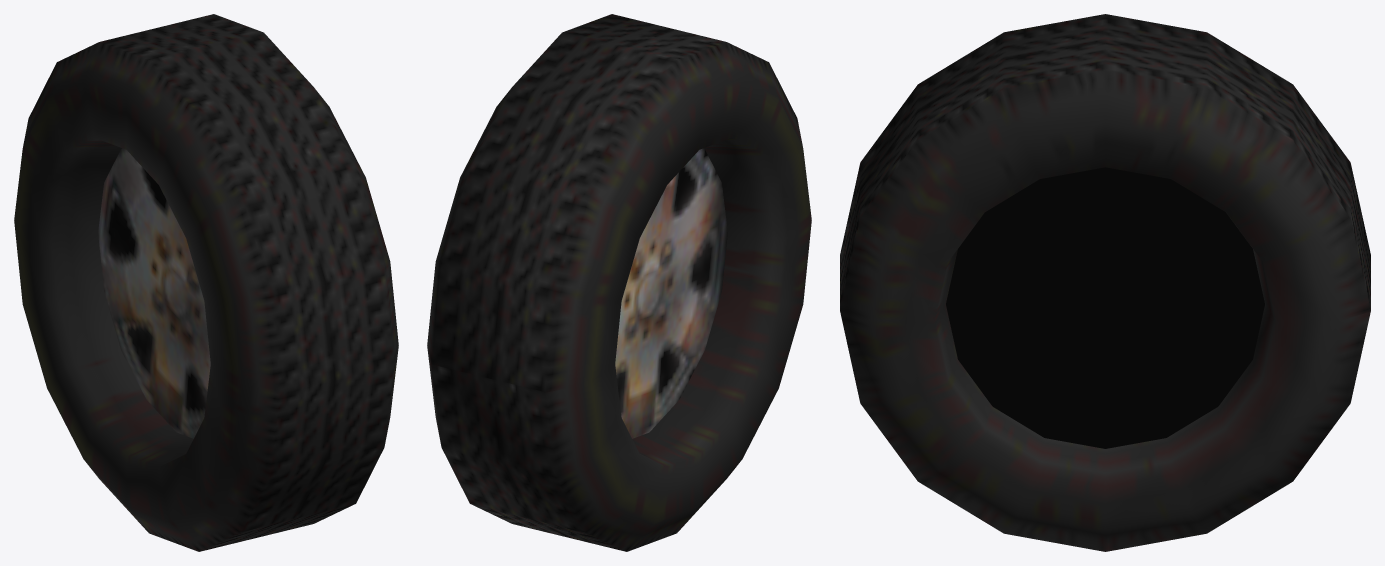
Rendered from WheelSportsTire.FBX.
The picture shows the model from 3 angles, left to right: view 1: azimuth 30°, elevation 25°; view 2: azimuth 150°, elevation 25°; view 3: azimuth 270°, elevation 25°; orthographic projection.
Visible parts, largest first — view 1: Wheel_SportsTire; view 2: Wheel_SportsTire; view 3: Wheel_SportsTire.
Part boxes in pixels (<box>): Wheel_SportsTire: <box>14,14,398,551</box>; Wheel_SportsTire: <box>427,14,811,551</box>; Wheel_SportsTire: <box>840,14,1370,551</box>.
Bounding box in the file's own units: 1.63 × 4.61 × 4.61.
1 material, 1 textured.
